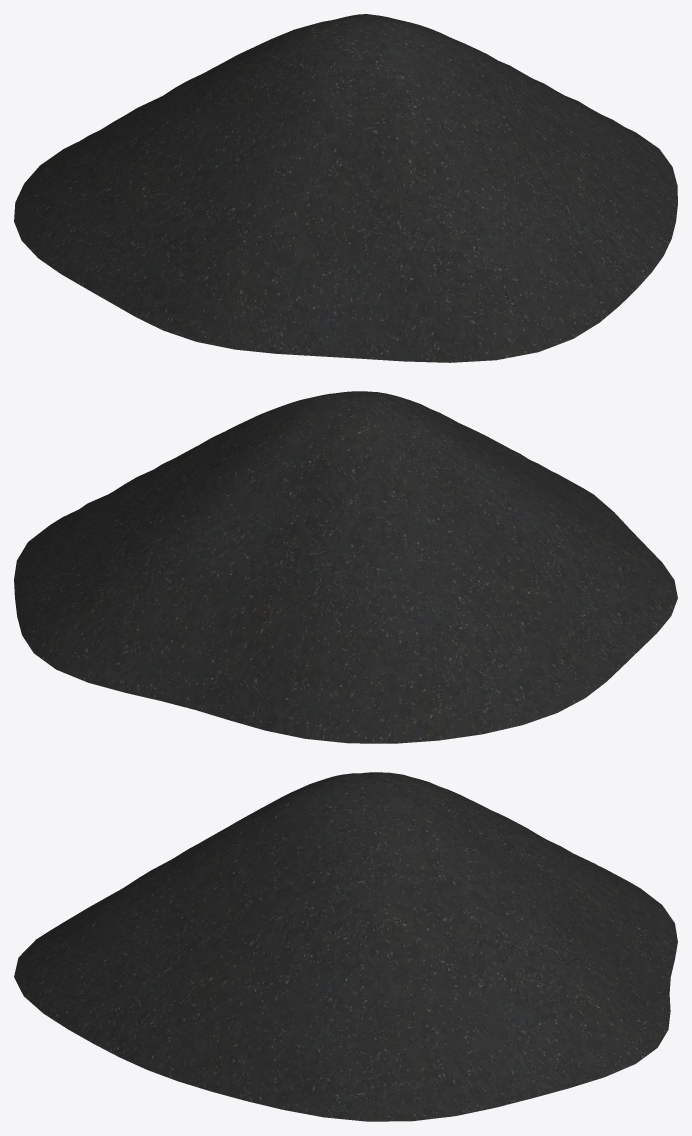
File: PAV-ASF-004_lod1.glb
The picture shows the model from 3 angles, top to bottom: view 1: azimuth 30°, elevation 25°; view 2: azimuth 150°, elevation 25°; view 3: azimuth 270°, elevation 25°; orthographic projection.
Parts seen in each view (by area): view 1: PAV-ASF-004_monte; view 2: PAV-ASF-004_monte; view 3: PAV-ASF-004_monte.
Boxes of the visible parts, x1,y1,x2,y2 form: PAV-ASF-004_monte: (14,14,677,362); PAV-ASF-004_monte: (14,391,677,743); PAV-ASF-004_monte: (14,772,677,1121).
Size of the model in its own units: 1.71 by 0.5494 by 1.72.
Materials: 1 (1 with a texture image).
